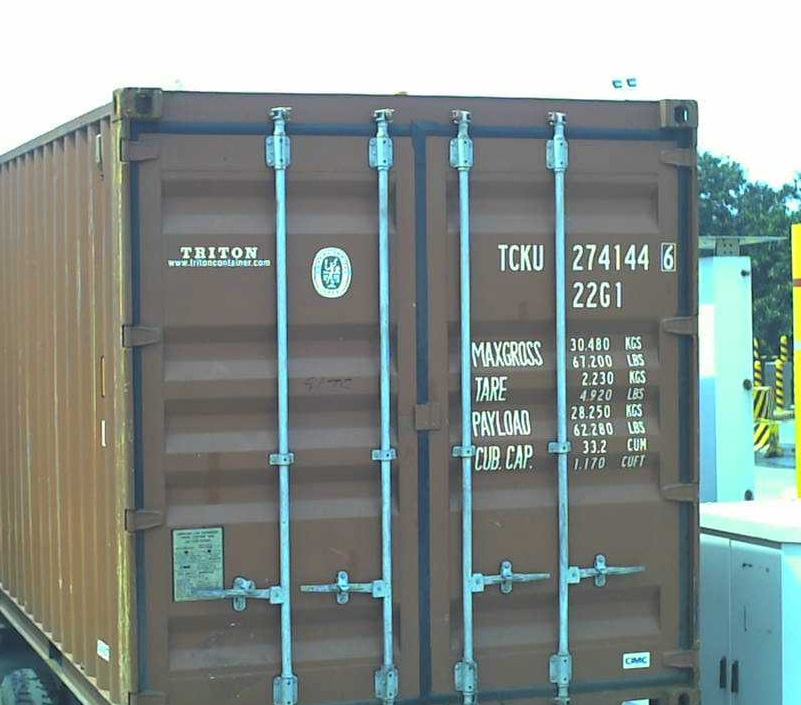container_door: (119, 82, 704, 703)
